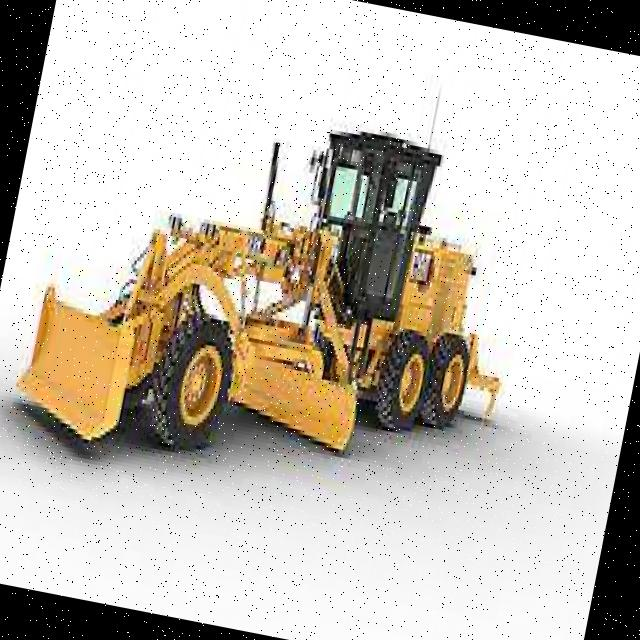Grader: (8, 42, 566, 534)
